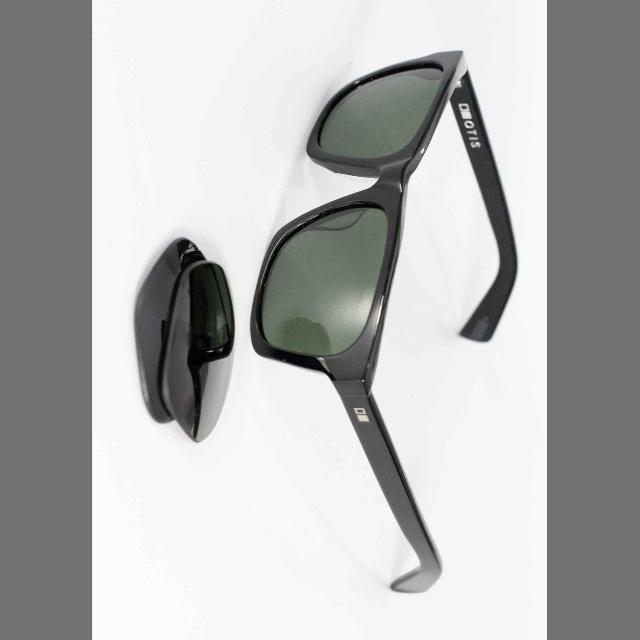Sunglasses: (242, 25, 522, 608)
